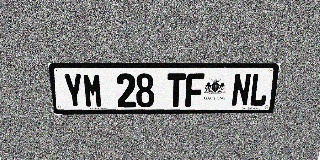2: (116, 73, 136, 107)
8: (136, 73, 154, 107)
F: (185, 73, 204, 107)
L: (248, 73, 270, 106)
M: (82, 73, 103, 108)
N: (231, 73, 252, 107)
T: (167, 73, 186, 107)
Y: (62, 73, 85, 108)
